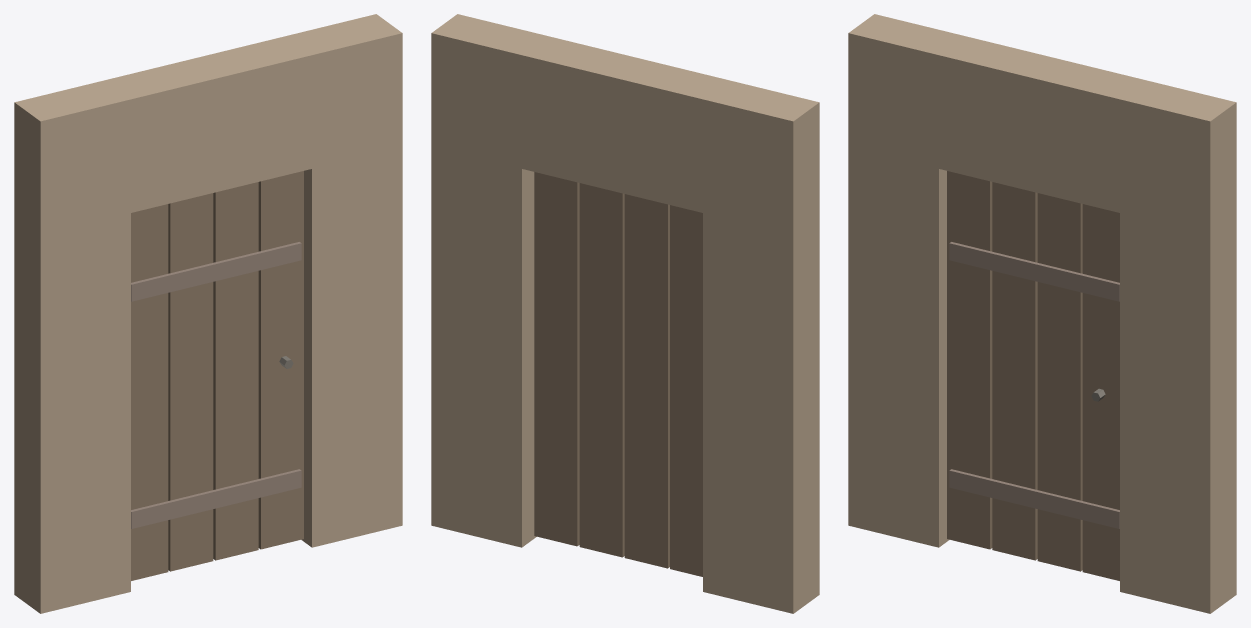
Rendered from wall_door.glb.
The picture shows the model from 3 angles, left to right: view 1: azimuth 30°, elevation 25°; view 2: azimuth 150°, elevation 25°; view 3: azimuth 330°, elevation 25°; orthographic projection.
Parts seen in each view (by area): view 1: door, object 1, object 2, object 3; view 2: door, object 1, object 2, object 3; view 3: door, object 2, object 1, object 3.
Part boxes in pixels (x1=…): door: x1=131, y1=171, x2=303, y2=580; object 1: x1=14, y1=80, x2=130, y2=613; object 2: x1=286, y1=14, x2=402, y2=547; object 3: x1=105, y1=36, x2=311, y2=212; door: x1=534, y1=172, x2=702, y2=576; object 1: x1=703, y1=80, x2=819, y2=613; object 2: x1=431, y1=14, x2=547, y2=547; object 3: x1=522, y1=36, x2=728, y2=212; door: x1=947, y1=171, x2=1119, y2=580; object 2: x1=1120, y1=80, x2=1236, y2=613; object 1: x1=848, y1=14, x2=964, y2=547; object 3: x1=939, y1=36, x2=1145, y2=212.
Size of the model in its own units: 2 by 2.6 by 0.255.
